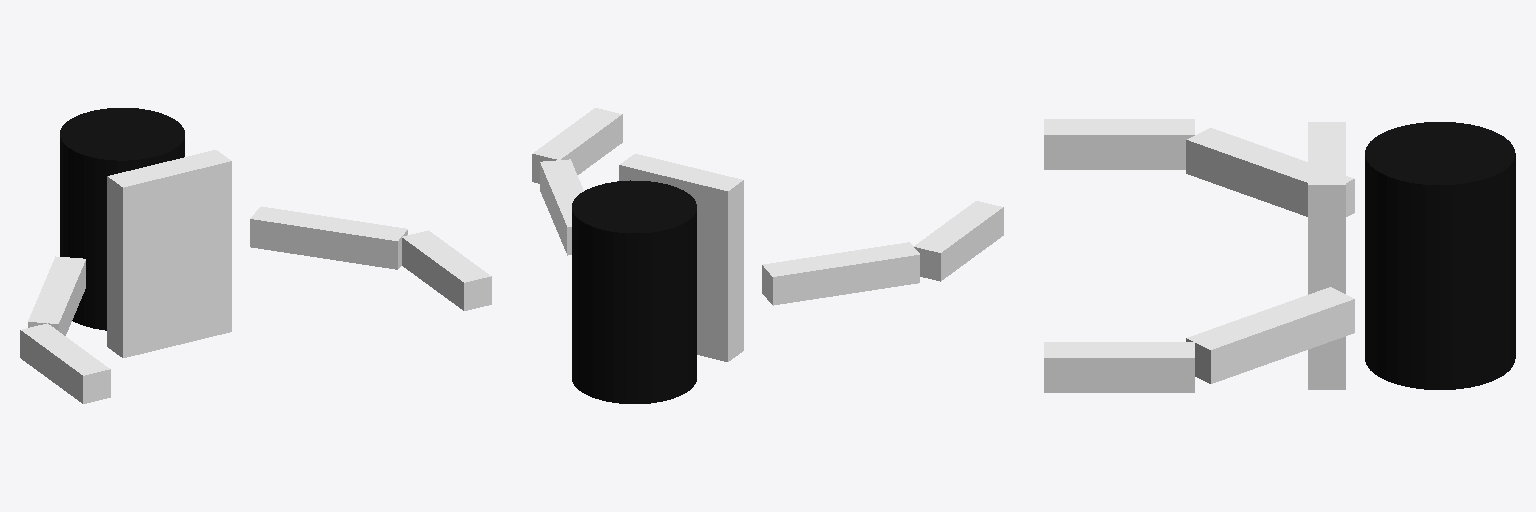
robot.urdf — two_finger_end_effector:
<?xml version="1.0"?>
<robot name="two_finger_end_effector">
  <link name="world"/>
    <joint name="virtualFixed" type="fixed">
    <parent link="world"/>
    <child link="motor"/>
  </joint>
  
  <link name="motor">
  <inertial>
    <mass value="1"/>
    <inertia ixx="100" ixy="0" ixz="0" iyy="100" iyz="0" izz="100" />
    <origin/>
  </inertial>
    <visual>
      <geometry>
        <cylinder length="0.6" radius=".2"/>
      </geometry>
      <material name="black">

      <color rgba=".1 .1 .1 1"/>
      </material>
    </visual>
  <collision>
    <origin xyz="0 0 0"/>
    <geometry>
      <cylinder length="0.6" radius=".2"/>
    </geometry>
    <contact_coefficients mu="0" kp="1000.0" kd="1.0"/>
  </collision>
  </link>

  <link name="base">
  <inertial>
    <mass value="1"/>
    <inertia ixx="100" ixy="0" ixz="0" iyy="100" iyz="0" izz="100" />
    <origin/>
  </inertial>
    <visual>
      <geometry>
        <box size="0.4 .1 .6"/>
      </geometry>
      <origin rpy="0 0 0" xyz="0 -0.15 0"/>
      <material name="white">
        <color rgba="1 1 1 1"/>
      </material>
    </visual>
  <collision>
      <origin rpy="0 0 0" xyz="0 -0.15 0"/>
    <geometry>
        <box size="0.4 .1 .6"/>
    </geometry>
    <contact_coefficients mu="0" kp="1000.0" kd="1.0"/>
  </collision>
  </link>

  <joint name="motor_to_base" type="fixed">
    <parent link="motor"/>
    <child link="base"/>
    <origin xyz="0 -0.15 0"/>
  </joint>


  <link name="left_finger">
  <inertial>
    <mass value="1"/>
    <inertia ixx="100" ixy="0" ixz="0" iyy="100" iyz="0" izz="100" />
    <origin/>
  </inertial>
    <visual>
      <geometry>
        <box size="0.1 .5 .1"/>
      </geometry>
      <origin rpy="0 0 -0.7" xyz="-0.4 -0.3 0"/>
      <material name="white">
        <color rgba="1 1 1 1"/>
      </material>
    </visual>
  <collision>
      <origin rpy="0 0 -0.7" xyz="-0.4 -0.3 0"/>
    <geometry>
        <box size="0.1 .5 .1"/>
    </geometry>
    <contact_coefficients mu="0" kp="1000.0" kd="1.0"/>
  </collision>
  </link>

  <joint name="base_to_left_finger" type="revolute">
    <axis xyz="0 0 1"/>
    <limit effort="1000.0" lower="0.0" upper="0.7" velocity="0.5"/>
    <parent link="base"/>
    <child link="left_finger"/>
    <origin xyz="-0.1 0 0"/>
  </joint>

  <link name="right_finger">
  <inertial>
    <mass value="1"/>
    <inertia ixx="100" ixy="0" ixz="0" iyy="100" iyz="0" izz="100" />
    <origin/>
  </inertial>
    <visual>
      <geometry>
        <box size="0.1 .5 .1"/>
      </geometry>
      <origin rpy="0 0 0.7" xyz="0.4 -0.3 0.0"/>
      <material name="white">
        <color rgba="1 1 1 1"/>
      </material>
    </visual>
  <collision>
      <origin rpy="0 0 0.7" xyz="0.4 -0.3 0.0"/>
    <geometry>
        <box size="0.1 .5 .1"/>
    </geometry>
    <contact_coefficients mu="0" kp="1000.0" kd="1.0"/>
  </collision>
  </link>

  <joint name="base_to_right_finger" type="revolute">
    <axis xyz="0 0 1"/>
    <limit effort="1000.0" lower="-0.7" upper="0.0" velocity="0.5"/>
    <parent link="base"/>
    <child link="right_finger"/>
    <origin xyz=".1 0 0"/>
  </joint>

  
  <link name="left_fingertip">
  <inertial>
    <mass value="1"/>
    <inertia ixx="100" ixy="0" ixz="0" iyy="100" iyz="0" izz="100" />
    <origin/>
  </inertial>
    <visual>
      <geometry>
        <box size="0.1 .4 .1"/>
      </geometry>
      <origin rpy="0 0 0" xyz="0 -0.2 0"/>
      <material name="white">
        <color rgba="1 1 1 1"/>
      </material>
    </visual>
  <collision>
      <origin rpy="0 0 0" xyz="0 -0.2 0"/>
    <geometry>
        <box size="0.1 .4 .1"/>
    </geometry>
    <contact_coefficients mu="0" kp="1000.0" kd="1.0"/>
  </collision>
  </link>

  <joint name="left_finger_to_left_fingertip" type="revolute">
    <axis xyz="0 0 1"/>
    <limit effort="1.0" lower="0" upper="0.9" velocity="0.5"/>
    <parent link="left_finger"/>
    <child link="left_fingertip"/>
    <origin xyz="-0.6 -0.5 0"/>
  </joint>

  <link name="right_fingertip">
  <inertial>
    <mass value="1"/>
    <inertia ixx="100" ixy="0" ixz="0" iyy="100" iyz="0" izz="100" />
    <origin/>
  </inertial>
    <visual>
      <geometry>
        <box size="0.1 .4 .1"/>
      </geometry>
      <origin rpy="0 0 0" xyz="0 -0.2 0"/>
      <material name="white">
        <color rgba="1 1 1 1"/>
      </material>
    </visual>
  <collision>
      <origin rpy="0 0 0" xyz="0 -0.2 0"/>
    <geometry>
        <box size="0.1 .4 .1"/>
    </geometry>
    <contact_coefficients mu="0" kp="1000.0" kd="1.0"/>
  </collision>
  </link>

  <joint name="right_finger_to_right_fingertip" type="revolute">
    <axis xyz="0 0 1"/>
    <limit effort="1.0" lower="-0.9" upper="0.0" velocity="0.5"/>
    <parent link="right_finger"/>
    <child link="right_fingertip"/>
    <origin xyz="0.6 -0.5 0.0"/>
  </joint>

  <gazebo>
    <plugin name="two_finger_controller" filename="libRoseePlugin.so">
    </plugin>
  </gazebo>

</robot>

--- What the picture shows (computed from the rendered views, not written in the file) ---
3 views of the same robot in one strip: view 1: azimuth 30°, elevation 25°; view 2: azimuth 150°, elevation 25°; view 3: azimuth 270°, elevation 25° (orthographic).
Model two_finger_end_effector with 7 links and 6 joints (4 revolute, 2 fixed), rooted at world, posed every joint at zero.
Visible links, largest first — view 1: base, motor, right_finger, left_fingertip, right_fingertip, left_finger; view 2: motor, base, left_finger, left_fingertip, right_fingertip, right_finger; view 3: motor, right_finger, base, right_fingertip, left_fingertip, left_finger.
Link boxes in pixels (left/top/right/bottom): base: left=107, top=150, right=231, bottom=357; motor: left=60, top=108, right=184, bottom=330; right_finger: left=250, top=206, right=407, bottom=269; left_fingertip: left=20, top=323, right=110, bottom=403; right_fingertip: left=402, top=230, right=491, bottom=310; left_finger: left=28, top=256, right=85, bottom=335; motor: left=572, top=180, right=696, bottom=403; base: left=619, top=154, right=743, bottom=361; left_finger: left=762, top=242, right=919, bottom=305; left_fingertip: left=914, top=201, right=1003, bottom=281; right_fingertip: left=532, top=108, right=622, bottom=183; right_finger: left=540, top=159, right=583, bottom=255; motor: left=1365, top=122, right=1515, bottom=389; right_finger: left=1186, top=287, right=1354, bottom=383; base: left=1308, top=122, right=1345, bottom=389; right_fingertip: left=1044, top=342, right=1194, bottom=392; left_fingertip: left=1044, top=119, right=1194, bottom=169; left_finger: left=1186, top=128, right=1354, bottom=216.
Bounding box of the posed robot: 1.5 × 1.25 × 0.6 m (x, y, z).
Geometry: primitives only (box / cylinder / sphere), no mesh files.